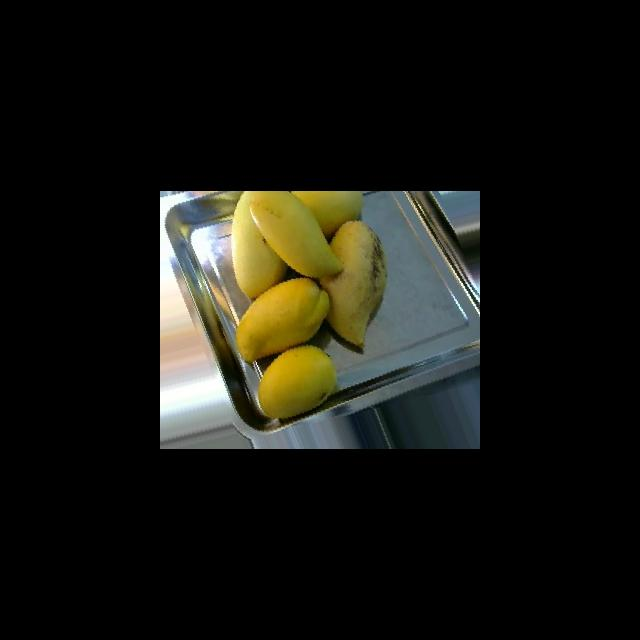mango: (317, 219, 388, 353), (247, 191, 345, 279), (235, 277, 332, 364), (229, 191, 292, 305), (257, 342, 338, 419), (291, 191, 364, 246)
